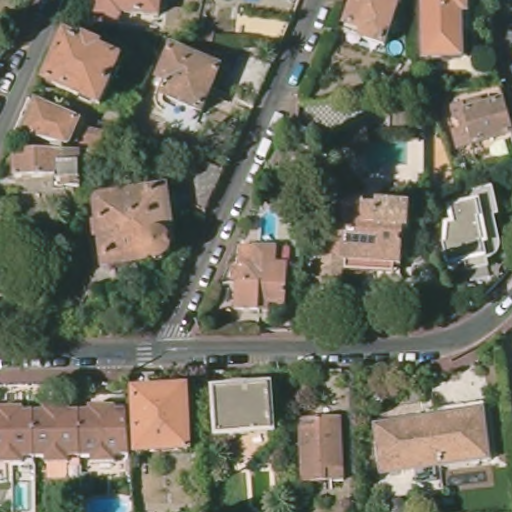pool: (377, 130, 411, 166), (76, 491, 132, 509), (258, 208, 280, 241), (384, 37, 408, 58), (13, 478, 29, 509)
